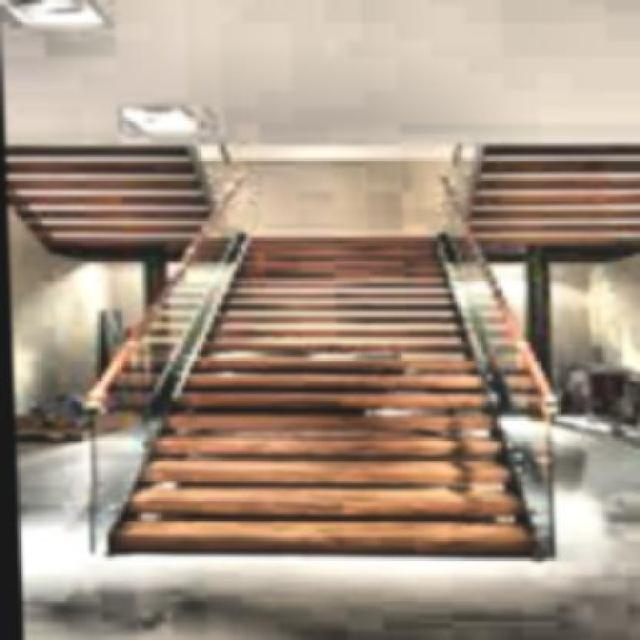stair: (131, 232, 523, 569)
